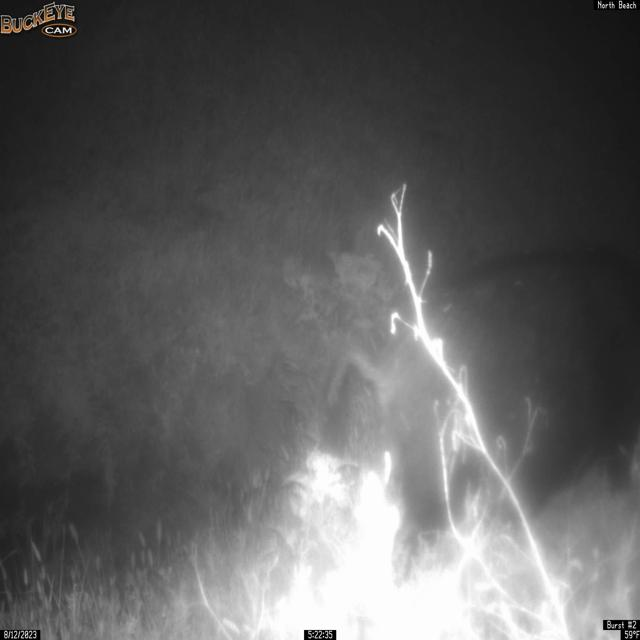pig: (326, 242, 640, 526)
